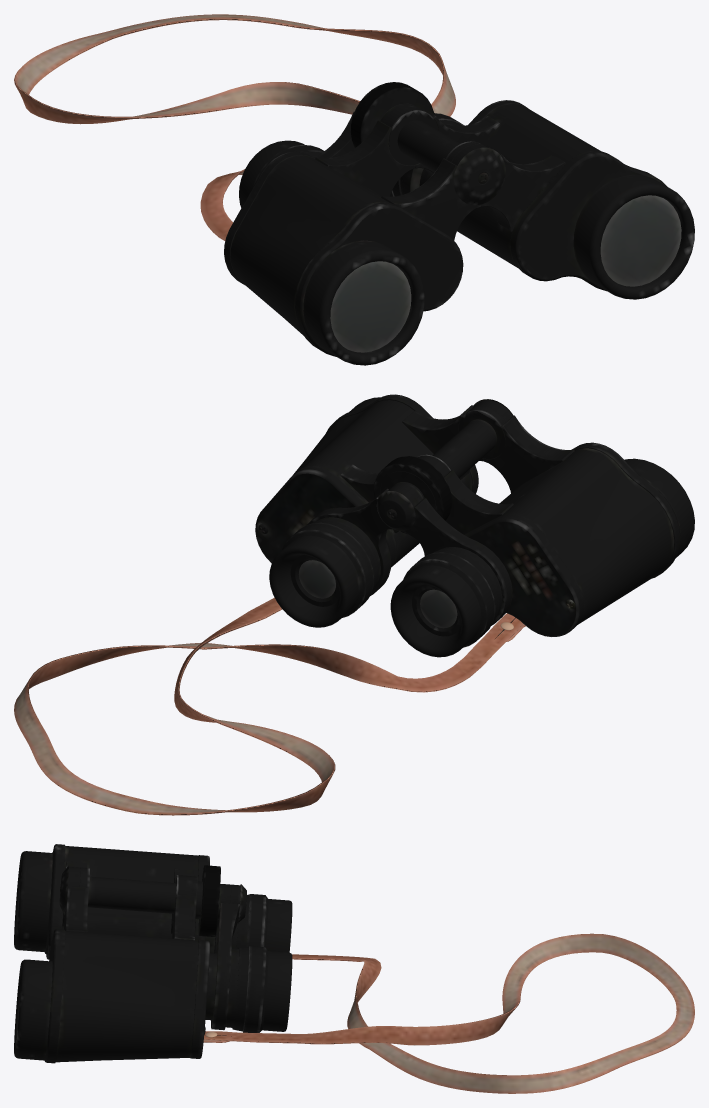
The model's file is binoculars.73e51356f9.glb.
3 views of the same model, one above another, from view 1: azimuth 30°, elevation 25°; view 2: azimuth 150°, elevation 25°; view 3: azimuth 270°, elevation 25° (orthographic). The views are drawn at different scales.
Parts seen in each view (by area): view 1: binoculars_right, binoculars_left, binoculars_strap, binoculars_column; view 2: binoculars_right, binoculars_left, binoculars_strap, binoculars_column; view 3: binoculars_left, binoculars_strap, binoculars_right, binoculars_column.
Boxes of the visible parts, bbox=[...] form: binoculars_right: bbox=[224, 111, 480, 365]; binoculars_left: bbox=[390, 100, 694, 299]; binoculars_strap: bbox=[14, 14, 455, 240]; binoculars_column: bbox=[350, 82, 505, 205]; binoculars_right: bbox=[390, 415, 694, 657]; binoculars_left: bbox=[255, 394, 483, 627]; binoculars_strap: bbox=[14, 597, 525, 815]; binoculars_column: bbox=[373, 399, 513, 533]; binoculars_left: bbox=[14, 886, 292, 1063]; binoculars_strap: bbox=[203, 933, 694, 1093]; binoculars_right: bbox=[14, 844, 292, 959]; binoculars_column: bbox=[59, 865, 246, 936].
Size of the model in its own units: 0.1669 by 0.0663 by 0.2879.
2 materials, 2 textured.
